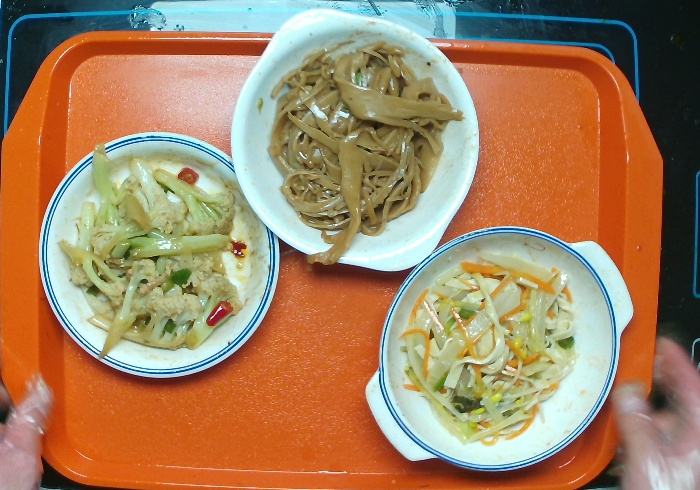HZYJPL-Dai_Er_Bai_Yuan_Wan: (228, 8, 482, 276)
HZYJPL-Lan_Bian_Dai_Er_Wan: (361, 225, 636, 476)
HZYJPL-Lan_Bian_Yuan_Die: (36, 130, 282, 381)
